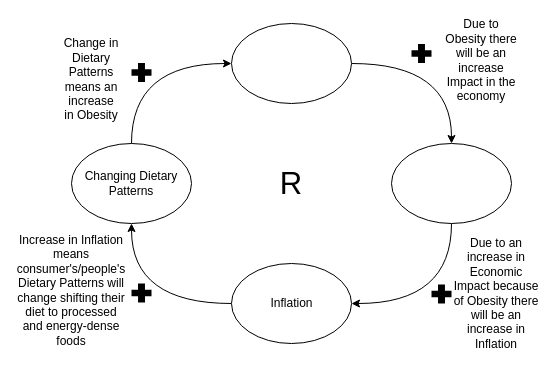
This 559x368 diagram has some shape labels left out. The centre of each missing label's shape, as x and y in pixels:
"Economic Impact" goes at point (451, 183).
"Obesity" goes at point (291, 63).
